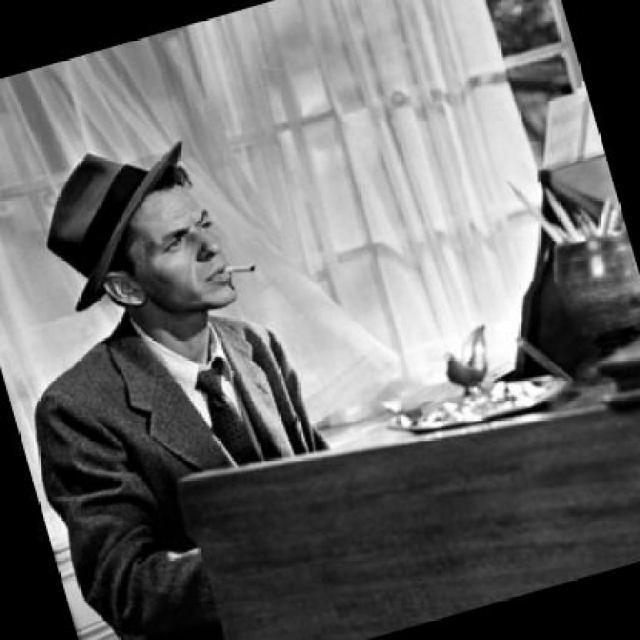smoke: (218, 256, 259, 282)
